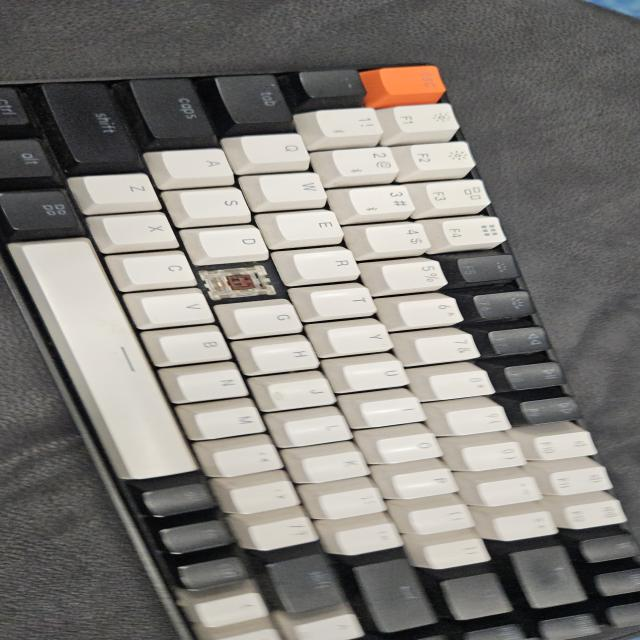C: (213, 266, 282, 298)
